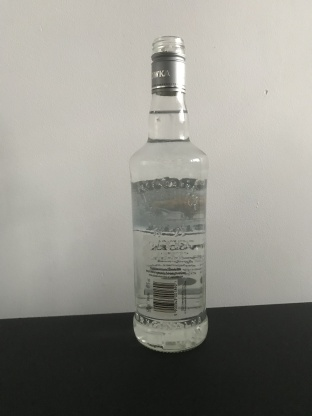nakretka: (149, 34, 187, 95)
